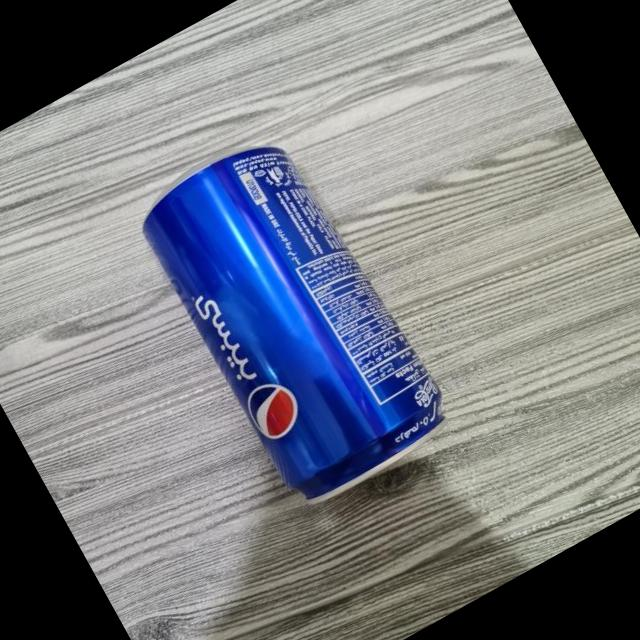Kaleng: (126, 117, 460, 516)
